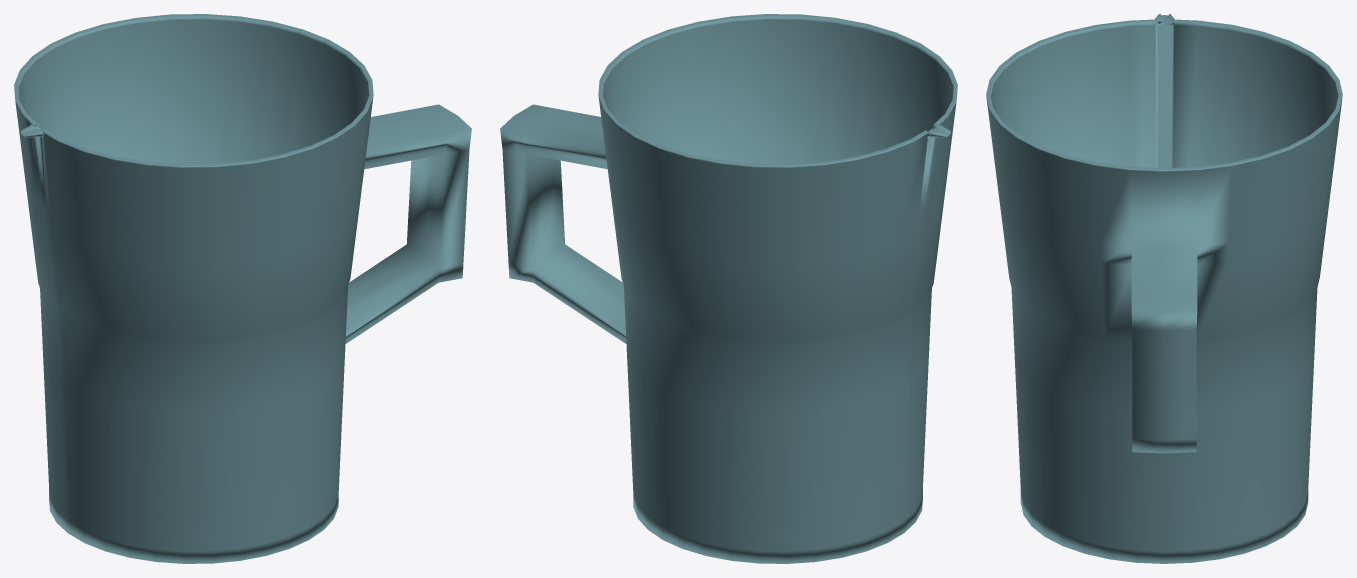
File: pitserforwater7.fbx
3 renders of one model, left to right at view 1: azimuth 30°, elevation 25°; view 2: azimuth 150°, elevation 25°; view 3: azimuth 270°, elevation 25°, orthographic.
Parts seen in each view (by area): view 1: Cylinder.001; view 2: Cylinder.001; view 3: Cylinder.001.
Boxes of the visible parts, <box> form: Cylinder.001: <box>14,14,471,563</box>; Cylinder.001: <box>500,14,957,563</box>; Cylinder.001: <box>986,14,1342,563</box>.
Bounding box in the file's own units: 750 × 680 × 538.
